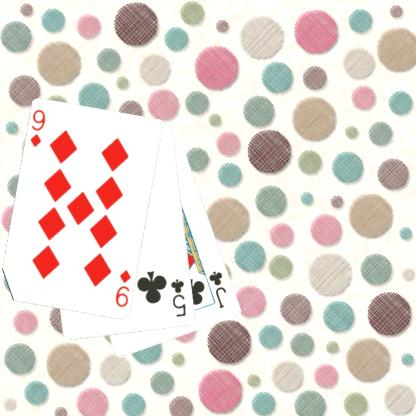5C: (168, 277, 187, 318)
9D: (113, 267, 132, 309), (28, 107, 47, 149)
JC: (206, 269, 228, 310)
